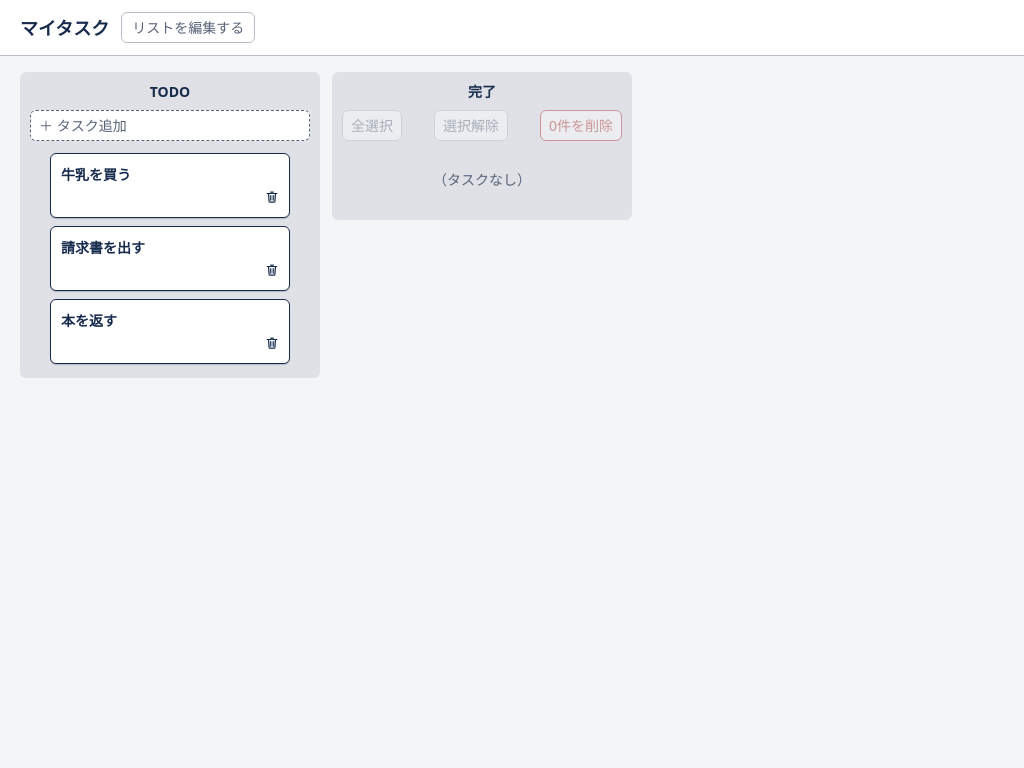
Test case: タスクを開く操作（F-07, #95） › ゴミ箱を押しても詳細は開かない
Expected: the heading "牛乳を買う" is shown, x1=61 y1=165 x2=131 y2=184
止めていないと、削除の確認と詳細が同時に開く
Click the button named "「牛乳を買う」を削除": point(272, 197) x1=265 y1=190 x2=279 y2=204
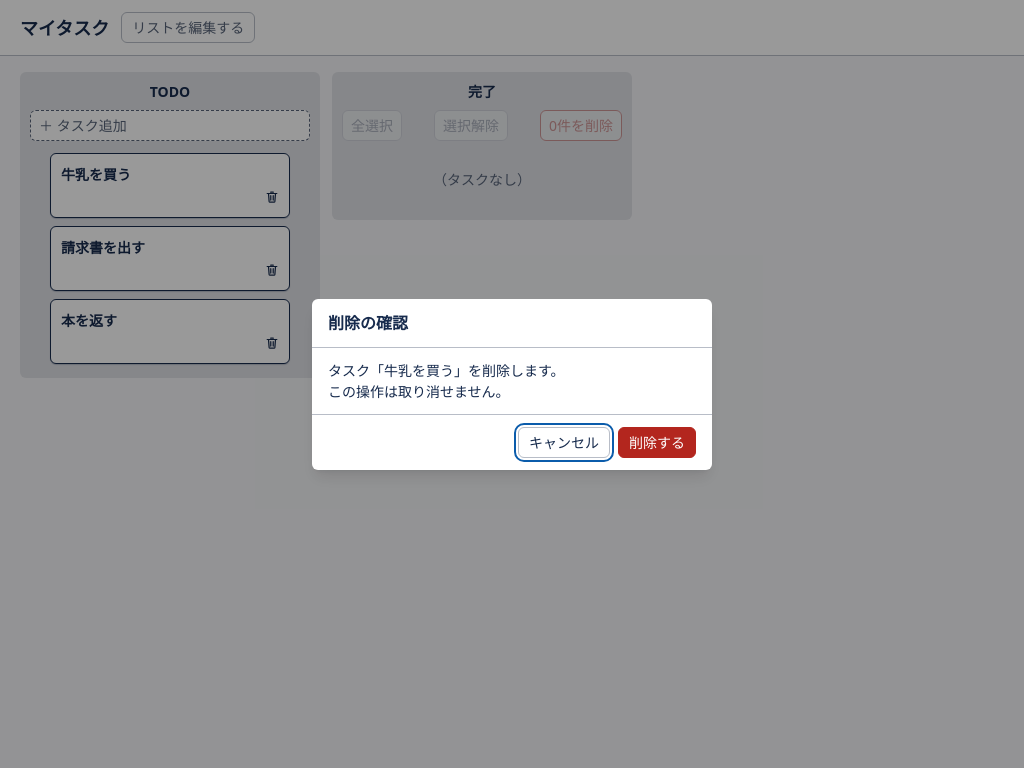
Expected: the dialog shows "削除します", x1=328 y1=360 x2=565 y2=380
